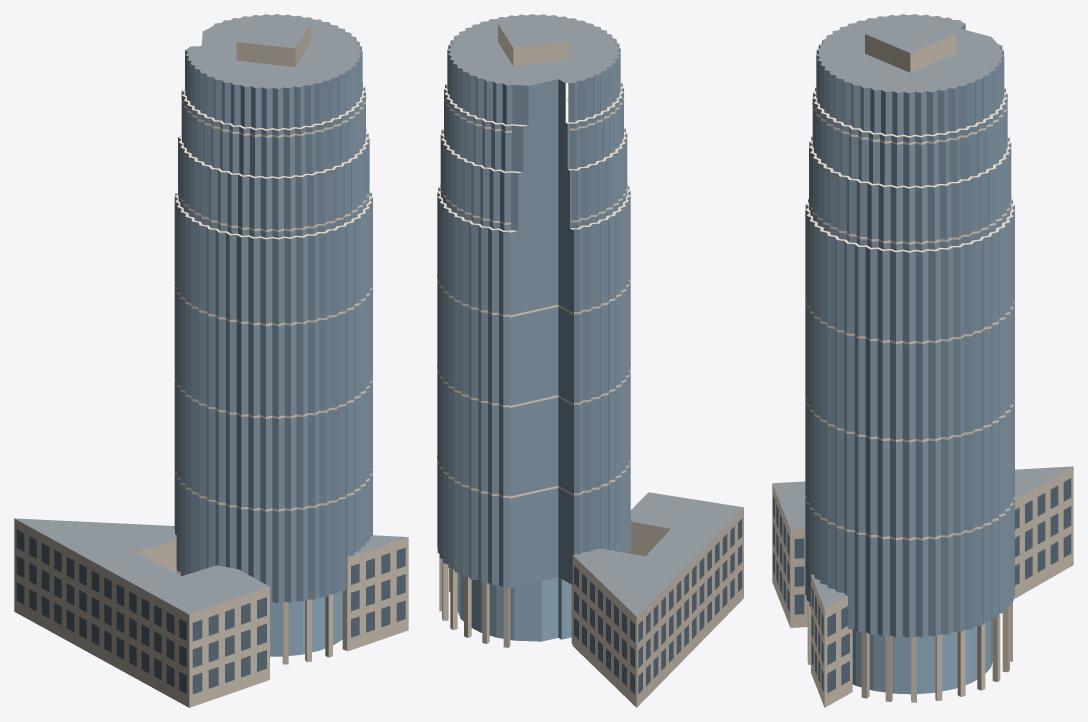
Rendered from sf-101-california.glb.
3 renders of one model, left to right at view 1: azimuth 30°, elevation 25°; view 2: azimuth 150°, elevation 25°; view 3: azimuth 270°, elevation 25°, orthographic. The views are drawn at different scales.
Parts seen in each view (by area): view 1: 101 California Street; view 2: 101 California Street; view 3: 101 California Street.
Boxes of the visible parts, x1,y1,x2,y2 form: 101 California Street: [14, 14, 408, 707]; 101 California Street: [437, 14, 743, 707]; 101 California Street: [772, 14, 1073, 707].
Bounding box in the file's own units: 93.1 × 190 × 83.
